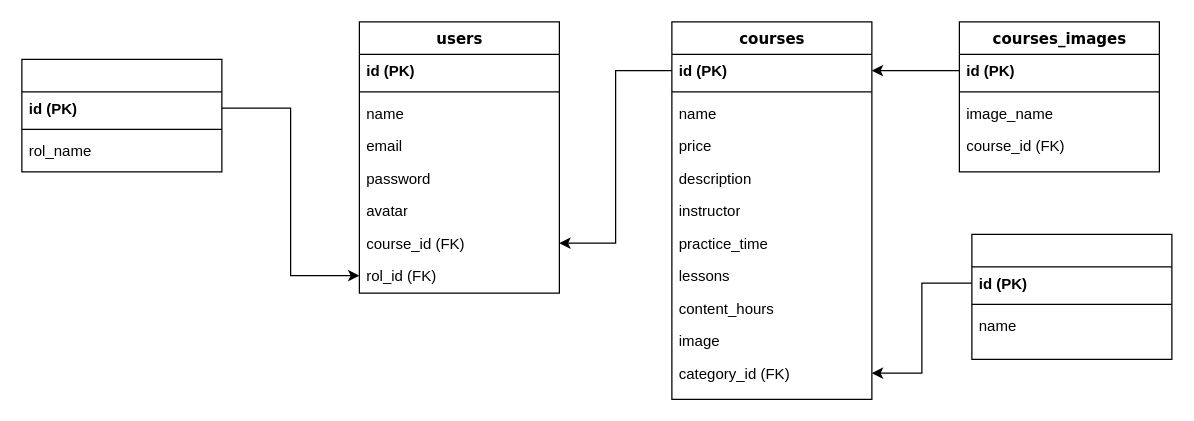
Some shapes in this 1194 by 421 pixel diagram are drawn without their labels. Each missing label, with the box of its shape:
categories: (971, 233, 1172, 359)
users_rol: (21, 58, 222, 172)
